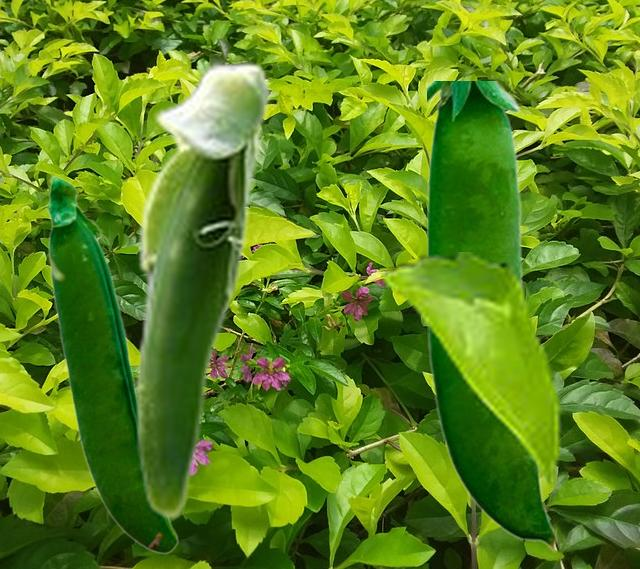pea: (134, 61, 272, 519), (427, 81, 556, 551), (45, 174, 177, 553)
